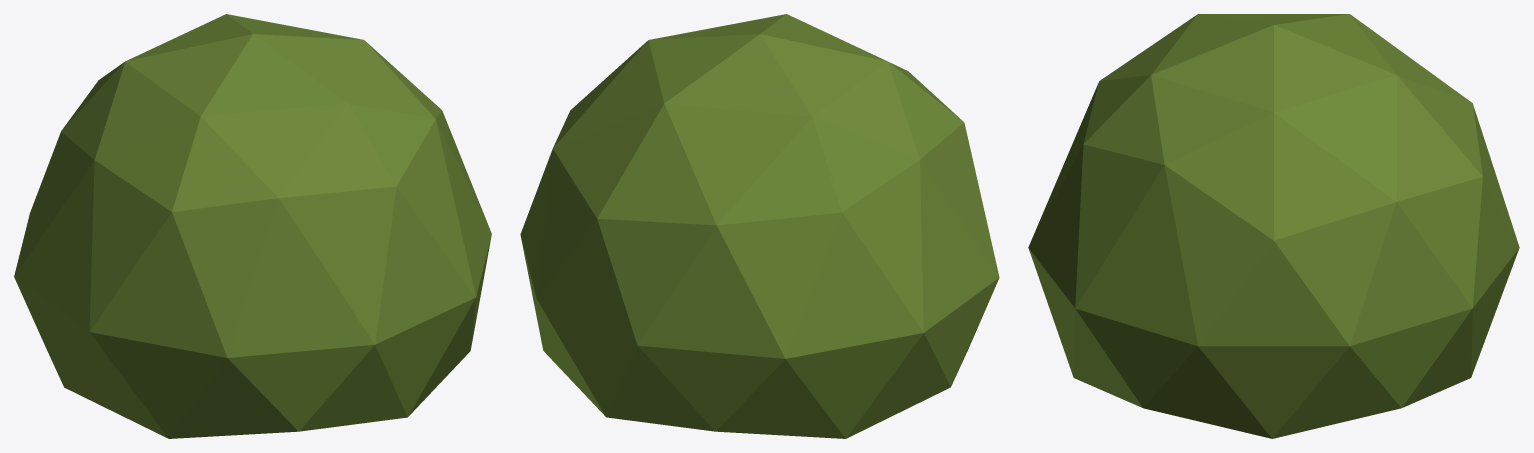
Rendered from bush01.glb.
The picture shows the model from 3 angles, left to right: view 1: azimuth 30°, elevation 25°; view 2: azimuth 150°, elevation 25°; view 3: azimuth 270°, elevation 25°; orthographic projection.
Parts seen in each view (by area): view 1: Icosphere; view 2: Icosphere; view 3: Icosphere.
Boxes of the visible parts, box(x1,y1,x2,y2) form: Icosphere: box(14, 14, 491, 438); Icosphere: box(520, 14, 999, 438); Icosphere: box(1028, 14, 1519, 438).
Size of the model in its own units: 1.9 by 1.55 by 2.
